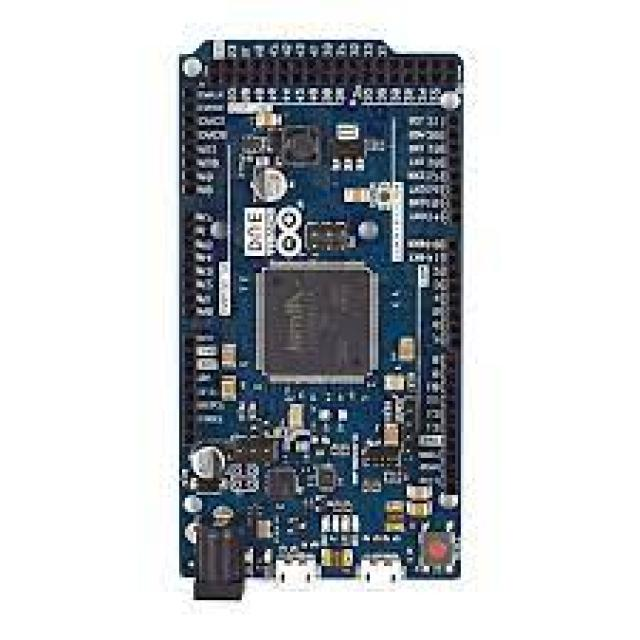Arduino-Due: (180, 41, 462, 598)
